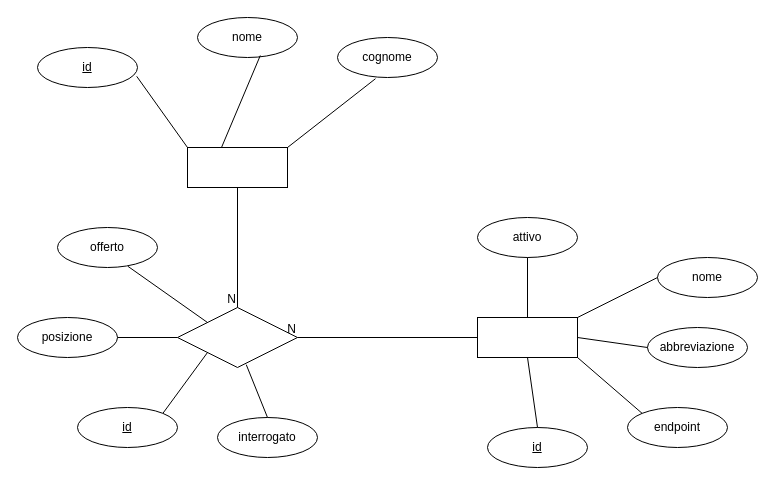
Some shapes in this 775 by 485 pixel diagram are drawn without their labels. The centre of each missing label's shape, as x and y in pixels:
"materia" belongs at point 527,337.
"studente" belongs at point 237,167.
"è interrogato" belongs at point 237,337.
